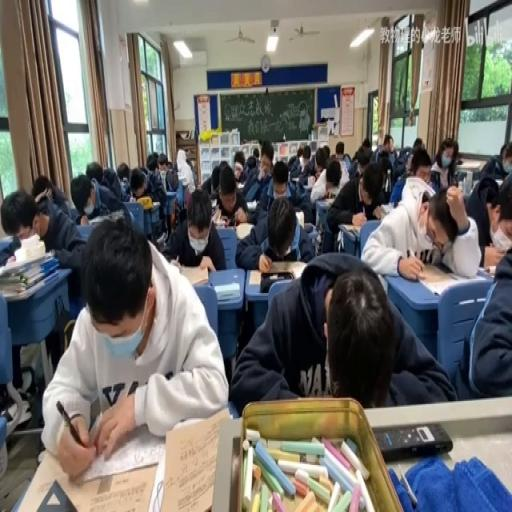calculator: (156, 405, 230, 509), (74, 414, 163, 483), (414, 259, 468, 296), (249, 260, 307, 283), (178, 259, 210, 284), (214, 280, 240, 300), (482, 246, 502, 270), (236, 222, 254, 240), (338, 222, 360, 235), (476, 264, 491, 278), (211, 206, 223, 222), (378, 202, 390, 218), (318, 195, 334, 206), (294, 210, 303, 229), (306, 175, 316, 188), (234, 182, 246, 192), (245, 199, 256, 209), (170, 256, 180, 267), (210, 196, 217, 208), (478, 161, 488, 169), (290, 176, 300, 181)
paper: (229, 253, 449, 411), (4, 183, 86, 397), (234, 185, 316, 269), (161, 184, 225, 270), (326, 156, 386, 244), (466, 168, 512, 267), (73, 168, 125, 223), (0, 189, 35, 243), (402, 144, 434, 199), (34, 170, 70, 218), (430, 137, 459, 189), (370, 135, 397, 184), (478, 141, 508, 182), (198, 162, 222, 199), (147, 166, 167, 209), (296, 144, 318, 182), (0, 234, 21, 268), (270, 162, 288, 189), (130, 166, 146, 196), (389, 175, 405, 205), (325, 161, 341, 189), (86, 160, 103, 184), (259, 138, 273, 164), (115, 161, 129, 186), (233, 151, 245, 175), (285, 152, 298, 174), (146, 151, 158, 172), (350, 148, 360, 168), (334, 141, 344, 159), (184, 158, 194, 175), (245, 155, 255, 171), (321, 148, 330, 165), (341, 151, 350, 168), (360, 136, 370, 150), (412, 138, 423, 149), (251, 145, 259, 158), (166, 158, 172, 169)
person: (374, 422, 452, 462)
